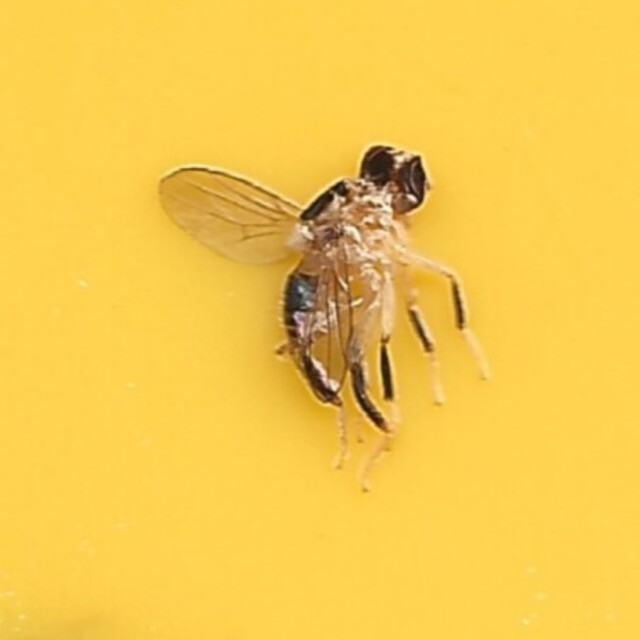Brachycera: (142, 143, 498, 497)
